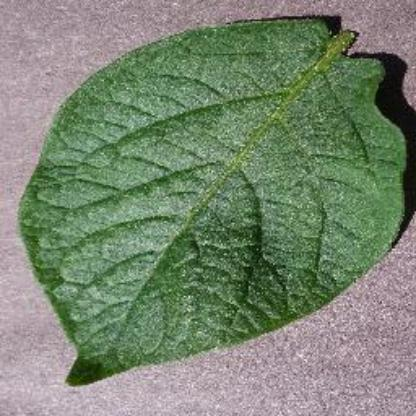Healthy-plant: (15, 10, 408, 386)
